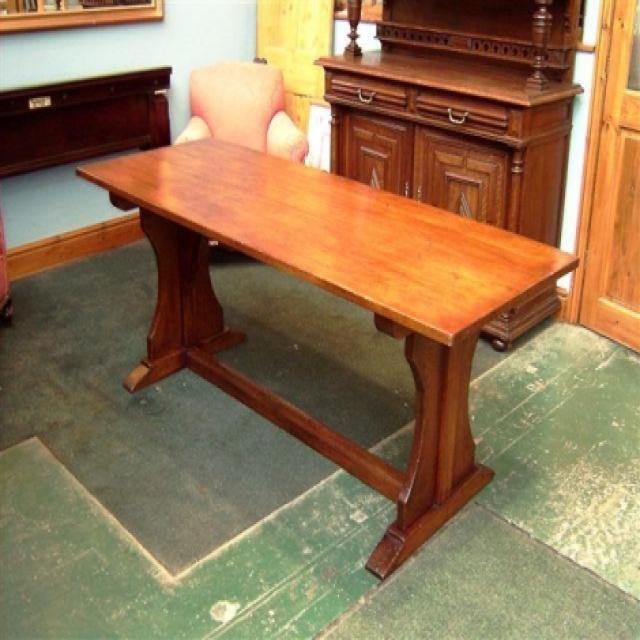table: (75, 130, 578, 586)
